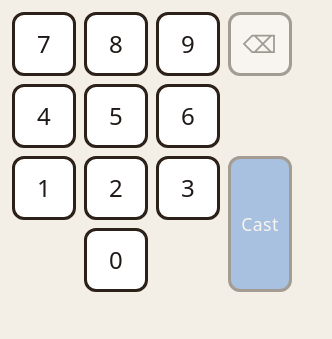
Test: Keypad › disables Cast and Backspace while the answer is empty
The width and height of the screenshot is (332, 339).
expect the button "Cast" is disabled: met, box x1=228 y1=156 x2=292 y2=292
expect the button named "Backspace" is disabled: met, box x1=228 y1=12 x2=292 y2=76
Click the button "3" at (188, 188), box x1=156 y1=156 x2=220 y2=220
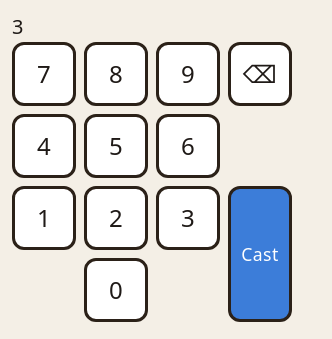
expect the button "Cast" is enabled: met, box x1=228 y1=186 x2=292 y2=322
